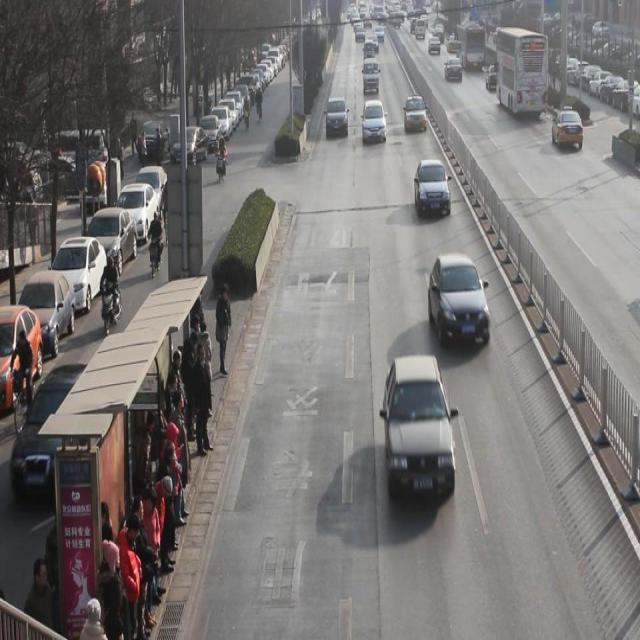car: (385, 356, 458, 506), (429, 252, 491, 351), (414, 158, 452, 216), (553, 107, 583, 150), (362, 99, 387, 143), (326, 96, 349, 140), (404, 95, 428, 133), (486, 63, 504, 92), (446, 57, 464, 82)
truck: (363, 56, 380, 94)
van: (494, 23, 549, 116)
